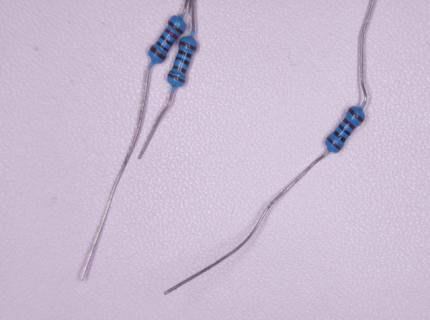Black band: (332, 130, 347, 143), (338, 123, 351, 136), (175, 56, 189, 66), (178, 50, 192, 59)
Brown band: (348, 107, 364, 123), (326, 136, 342, 150), (179, 40, 197, 51), (342, 117, 356, 130), (168, 73, 186, 83), (173, 65, 187, 74)
